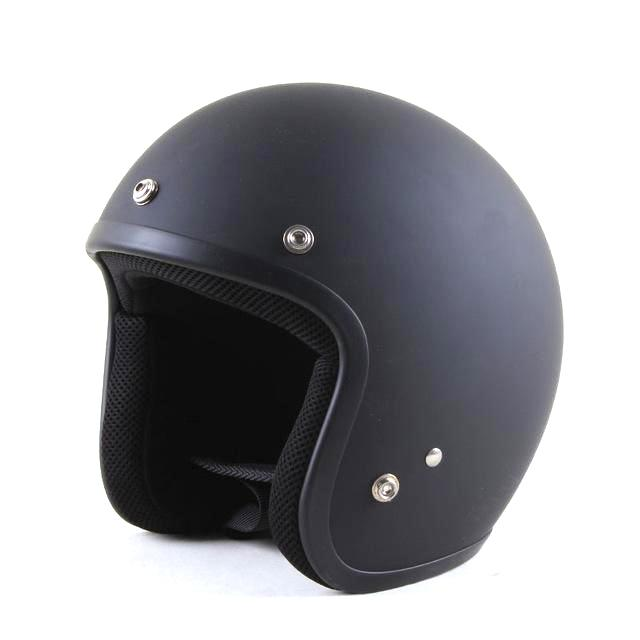with_helmet: (77, 71, 572, 598)
